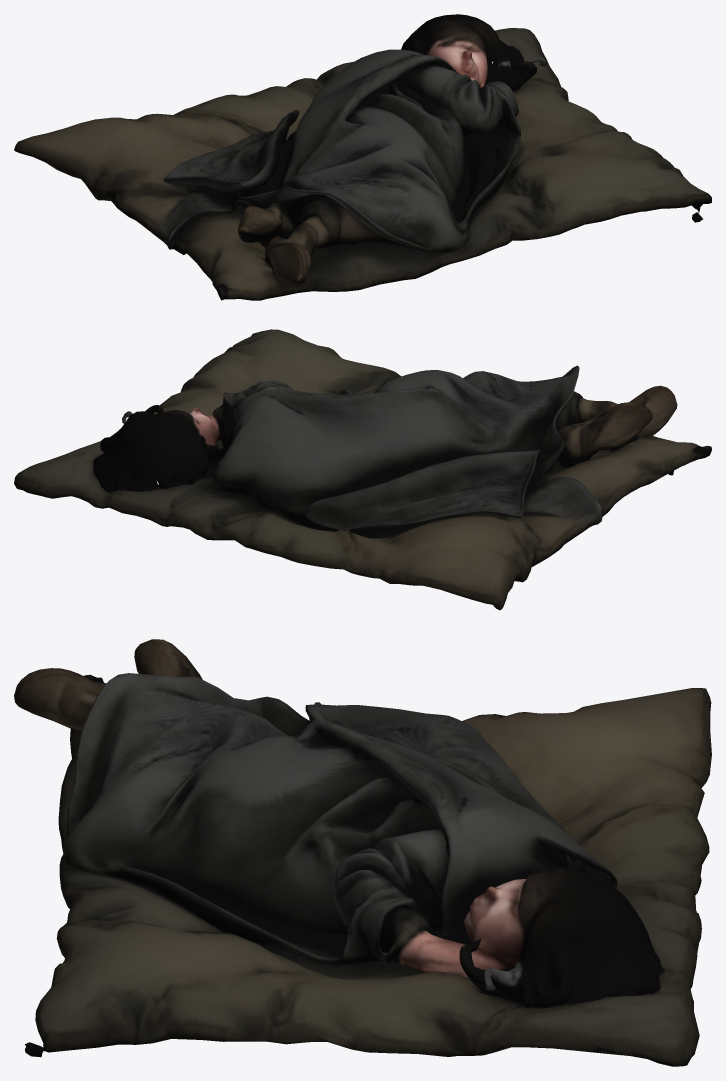
File: sleeper.glb
3 views of the same model, one above another, from view 1: azimuth 30°, elevation 25°; view 2: azimuth 150°, elevation 25°; view 3: azimuth 270°, elevation 25° (orthographic). The views are drawn at different scales.
Parts seen in each view (by area): view 1: world; view 2: world; view 3: world.
Boxes of the visible parts, <box> form: world: <box>14,14,711,300</box>; world: <box>14,329,711,610</box>; world: <box>14,639,711,1066</box>.
Size of the model in its own units: 1 by 0.1978 by 0.7969.
Materials: 1 (1 with a texture image).
